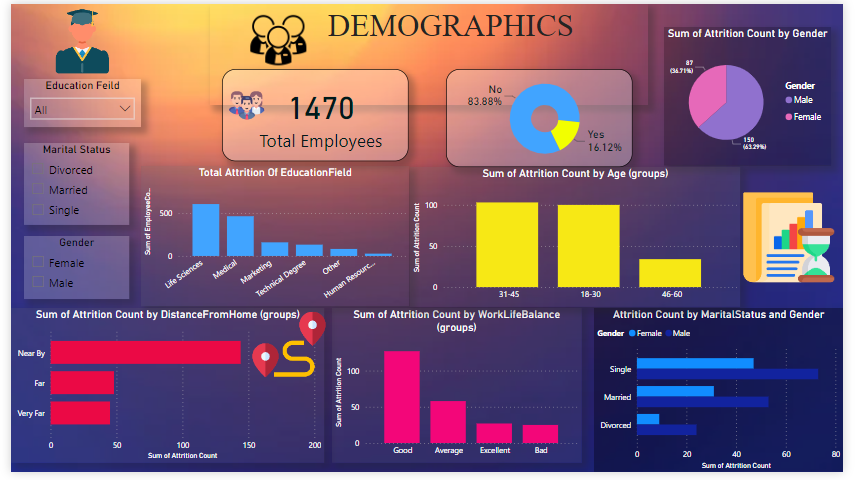

This screenshot's page, from the dashboard's own definition file:
{"tool":"powerbi","page":{"name":"Page 1","canvas":[1280,720],"ordinal":0},"visuals":[{"type":"textbox","box":[306.6,0,673.8,155.7],"z":0},{"type":"card","fields":{"Values":["Sum(HR-Employee-Attrition.EmployeeCount)"]},"box":[324.6,100,287,142],"z":1000},{"type":"image","box":[324.6,123,75.4,65.6],"z":2000},{"type":"image","box":[332.8,4.9,157.4,101.6],"z":3000},{"type":"clusteredColumnChart","title":"Total Attrition Of EducationField","fields":{"Category":["HR-Employee-Attrition.EducationField"],"Y":["Sum(HR-Employee-Attrition.EmployeeCount)"]},"box":[200,249.2,413.1,216.4],"z":4000},{"type":"donutChart","fields":{"Category":["HR-Employee-Attrition.Attrition Count (groups)"],"Y":["Sum(HR-Employee-Attrition.EmployeeCount)"]},"box":[668.9,100,286.9,150.8],"z":5000},{"type":"columnChart","fields":{"Category":["HR-Employee-Attrition.WorkLifeBalance (groups)"],"Y":["Sum(HR-Employee-Attrition.Attrition Count)"]},"box":[493.4,467.2,383.6,237.7],"z":6000},{"type":"slicer","title":"Education Feild","fields":{"Values":["HR-Employee-Attrition.EducationField"]},"box":[19.7,114.8,180.3,73.8],"z":7000},{"type":"slicer","title":"Marital Status","fields":{"Values":["HR-Employee-Attrition.MaritalStatus"]},"box":[19.7,213.1,162.3,126.2],"z":8000},{"type":"barChart","fields":{"Y":["Sum(HR-Employee-Attrition.Attrition Count)"],"Category":["HR-Employee-Attrition.DistanceFromHome (groups)"]},"box":[0,467.2,482,237.7],"z":9000},{"type":"pieChart","fields":{"Y":["Sum(HR-Employee-Attrition.Attrition Count)"],"Category":["HR-Employee-Attrition.Gender"]},"box":[1004.9,36.1,257.4,213.1],"z":10000},{"type":"clusteredBarChart","title":"Attrition Count by MaritalStatus and Gender","fields":{"Category":["HR-Employee-Attrition.MaritalStatus","HR-Employee-Attrition.Gender"],"Y":["Sum(HR-Employee-Attrition.Attrition Count)"],"Series":["HR-Employee-Attrition.Gender"]},"box":[896.7,467.2,383.6,252.5],"z":11000},{"type":"columnChart","fields":{"Category":["HR-Employee-Attrition.Age (groups)"],"Y":["Sum(HR-Employee-Attrition.Attrition Count)"]},"box":[613.1,250.8,508.2,214.8],"z":12000},{"type":"slicer","title":"Gender","fields":{"Values":["HR-Employee-Attrition.Gender"]},"box":[19.7,357.4,162.3,96.7],"z":13000},{"type":"image","box":[365.6,436.1,123,177],"z":14000},{"type":"image","box":[9.8,0,200,114.8],"z":15000},{"type":"image","box":[1121,251,150,215],"z":16000}]}

Visuals, with their boxes in screenshot pixels (x1, y1, x2, y2), scaled from the page's 1280x720 canvas onto the 855x480 screenshot:
textbox: 205, 0, 655, 104
card - Sum(HR-Employee-Attrition.EmployeeCount): 217, 67, 409, 161
image: 217, 82, 267, 126
image: 222, 3, 327, 71
"Total Attrition Of EducationField" clusteredColumnChart: 134, 166, 410, 310
donutChart - HR-Employee-Attrition.Attrition Count (groups) x Sum(HR-Employee-Attrition.EmployeeCount): 447, 67, 638, 167
columnChart - HR-Employee-Attrition.WorkLifeBalance (groups) x Sum(HR-Employee-Attrition.Attrition Count): 330, 311, 586, 470
"Education Feild" slicer: 13, 77, 134, 126
"Marital Status" slicer: 13, 142, 122, 226
barChart - Sum(HR-Employee-Attrition.Attrition Count) x HR-Employee-Attrition.DistanceFromHome (groups): 0, 311, 322, 470
pieChart - Sum(HR-Employee-Attrition.Attrition Count) x HR-Employee-Attrition.Gender: 671, 24, 843, 166
"Attrition Count by MaritalStatus and Gender" clusteredBarChart: 599, 311, 854, 479
columnChart - HR-Employee-Attrition.Age (groups) x Sum(HR-Employee-Attrition.Attrition Count): 410, 167, 749, 310
"Gender" slicer: 13, 238, 122, 303
image: 244, 291, 326, 409
image: 7, 0, 140, 77
image: 749, 167, 849, 311
